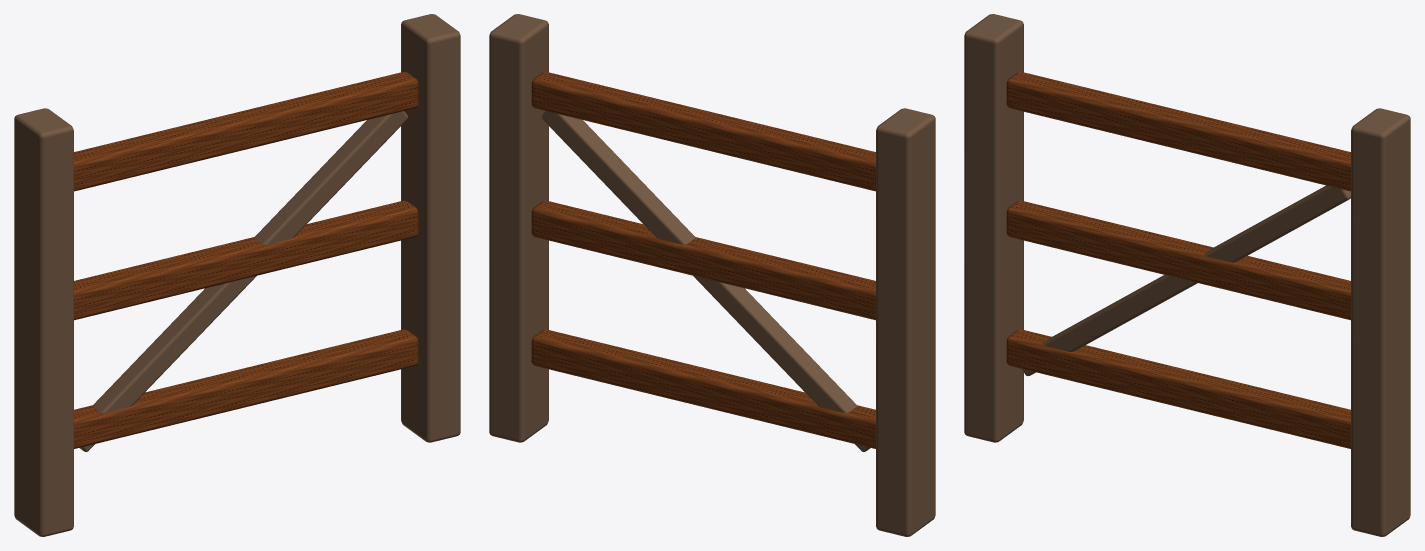
The model's file is adventurers-tavern-and-guild-hall-bar-gate-3b2f91ff__24710.glb.
3 renders of one model, left to right at view 1: azimuth 30°, elevation 25°; view 2: azimuth 150°, elevation 25°; view 3: azimuth 330°, elevation 25°, orthographic.
Visible parts, largest first — view 1: bar-gate (×3); view 2: bar-gate (×3); view 3: bar-gate (×3).
Boxes of the visible parts, <box> form: bar-gate (×3): <box>14,14,460,536</box>; bar-gate (×3): <box>489,14,935,536</box>; bar-gate (×3): <box>964,14,1410,536</box>.
Size of the model in its own units: 1.2 by 1.1 by 0.14.
2 materials, 1 textured.
